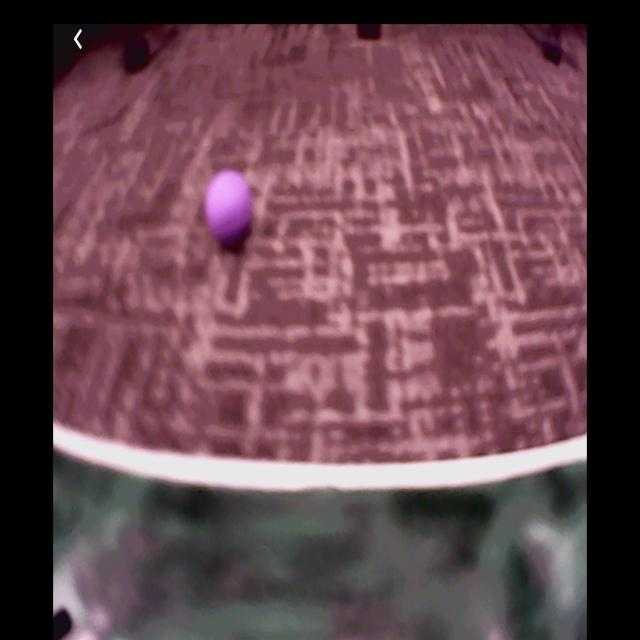ball: (207, 171, 253, 242)
